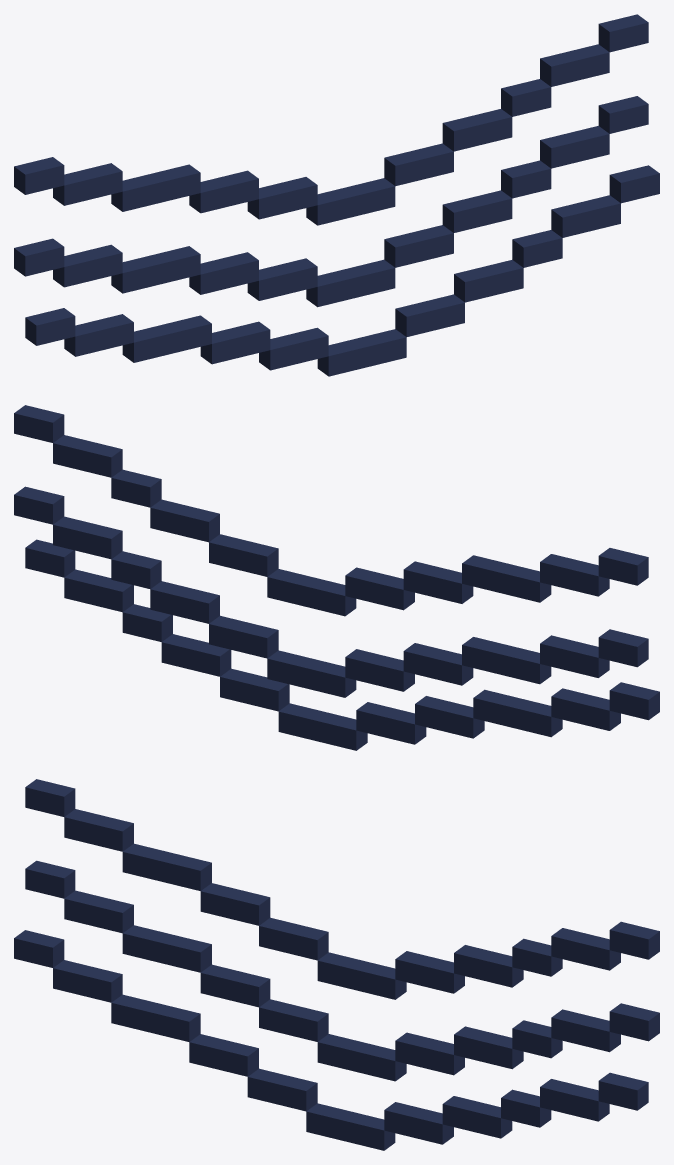
The model's file is KABELKI_WISZACE.dae.
The picture shows the model from 3 angles, top to bottom: view 1: azimuth 30°, elevation 25°; view 2: azimuth 150°, elevation 25°; view 3: azimuth 330°, elevation 25°; orthographic projection.
Visible parts, largest first — view 1: Content; view 2: Content; view 3: Content.
Boxes of the visible parts, x1,y1,x2,y2 form: Content: (14,14,659,376); Content: (14,405,659,750); Content: (14,779,659,1150).
Bounding box in the file's own units: 32 × 13 × 2.
Materials: 1 (1 with a texture image).
